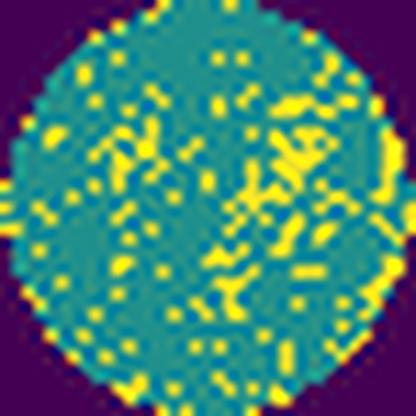Loc: (223, 123, 338, 236), (88, 114, 163, 190), (215, 263, 262, 322)
